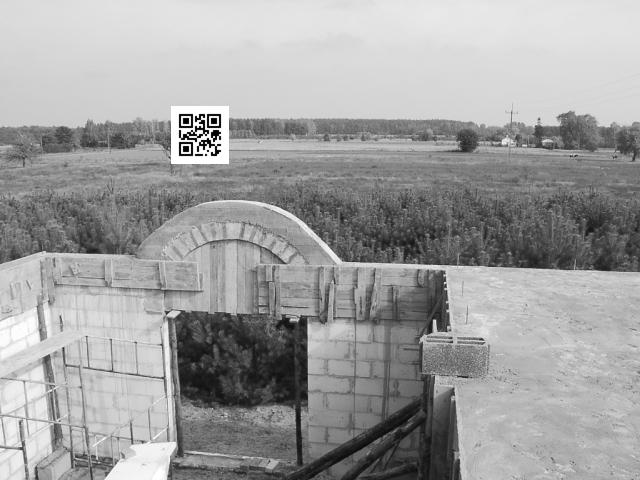qr_code: (171, 105, 229, 164)
